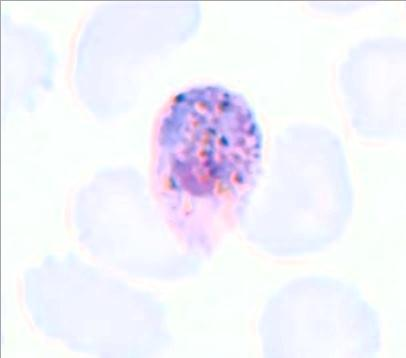Infected: (148, 83, 266, 256)
Uninfected: (23, 254, 169, 358), (74, 0, 200, 116), (245, 123, 353, 255), (77, 165, 200, 277), (257, 276, 382, 358)
